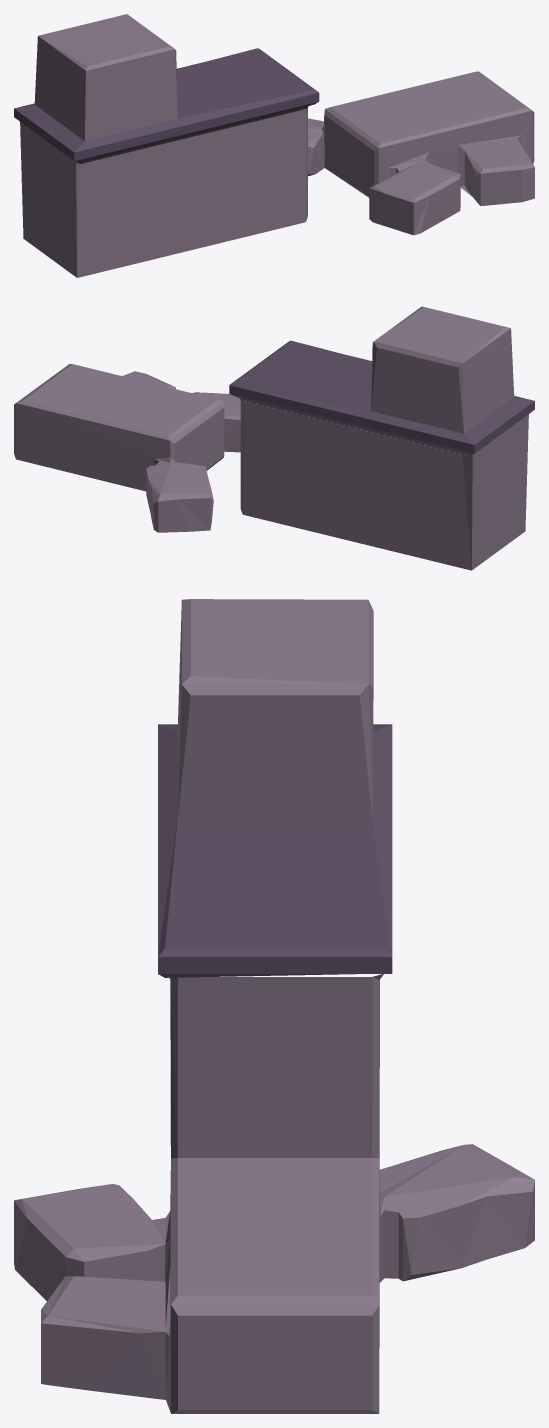
The model's file is parapet_broken.glb.
3 views of the same model, one above another, from view 1: azimuth 30°, elevation 25°; view 2: azimuth 150°, elevation 25°; view 3: azimuth 270°, elevation 25° (orthographic). The views are drawn at different scales.
Visible parts, largest first — view 1: parapet_broken; view 2: parapet_broken; view 3: parapet_broken.
Boxes of the visible parts, x1,y1,x2,y2 form: parapet_broken: (14,14,534,277); parapet_broken: (14,306,534,570); parapet_broken: (14,599,534,1413).
Size of the model in its own units: 3.19 by 1.35 by 1.59.
